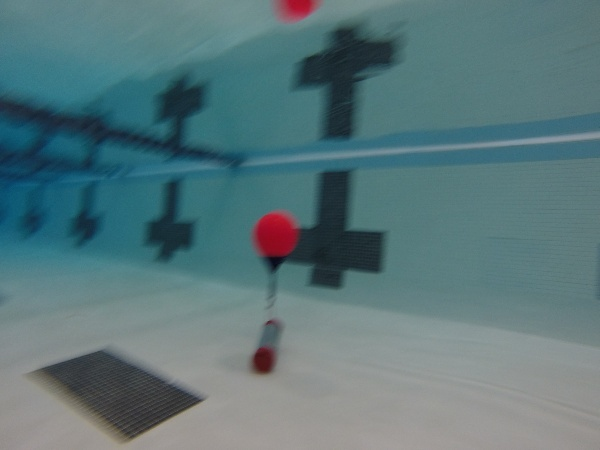buoy_red: (250, 209, 298, 274)
